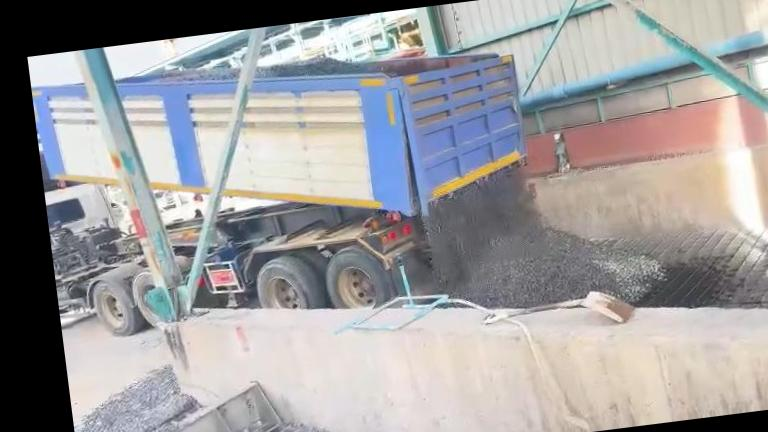gravel: (426, 168, 665, 307), (77, 365, 199, 432), (256, 56, 397, 78), (157, 67, 240, 81)
